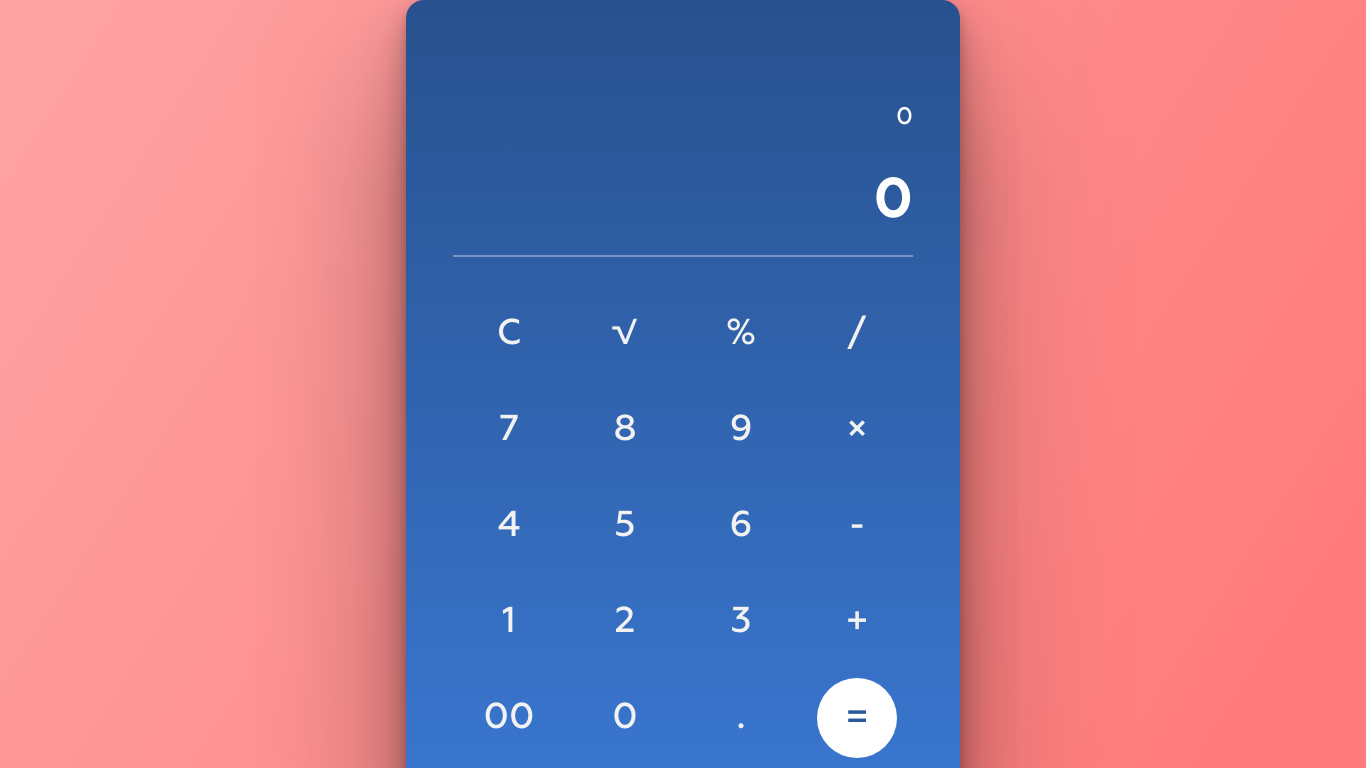
it: Basic Math Operations › should calc sqrt
Click the button "9" at (741, 430), box [701,390,781,470]
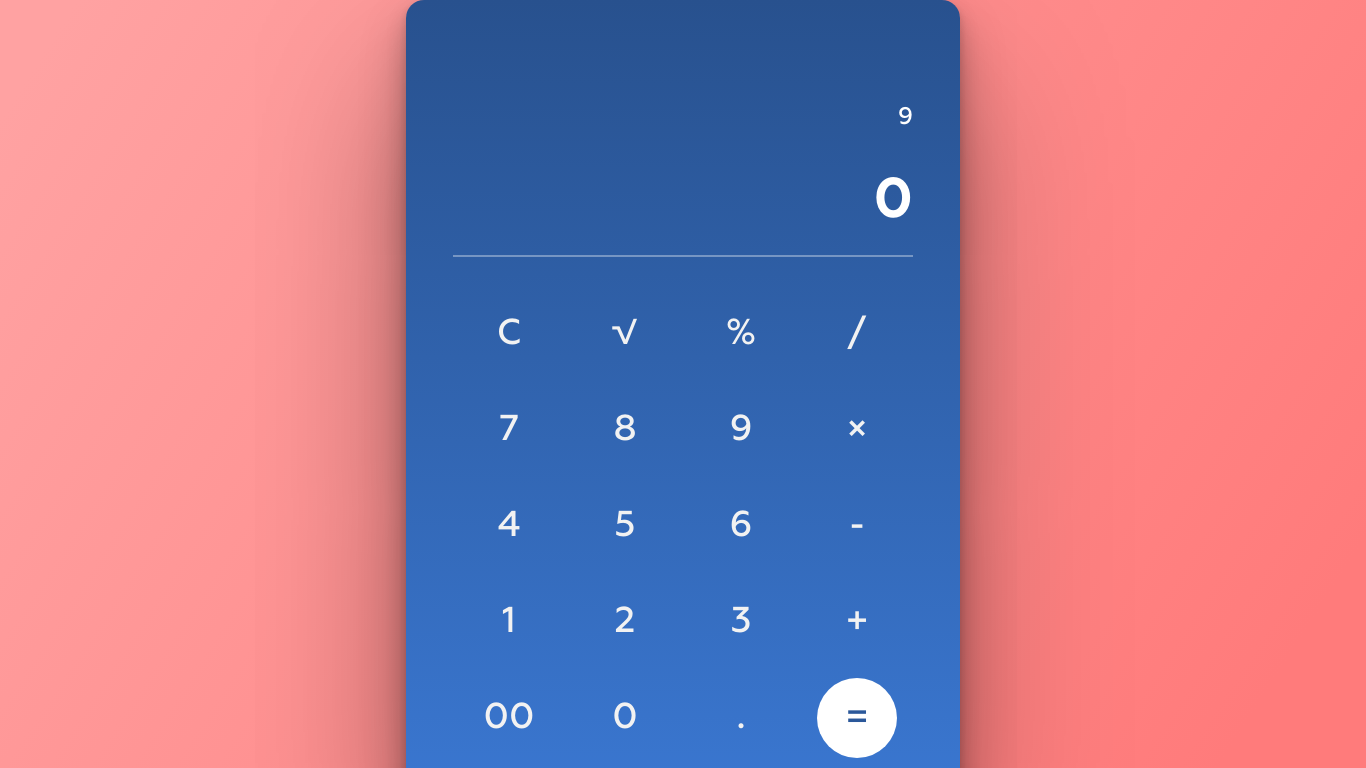
Click the button "√" at (625, 334), box [585,294,665,374]
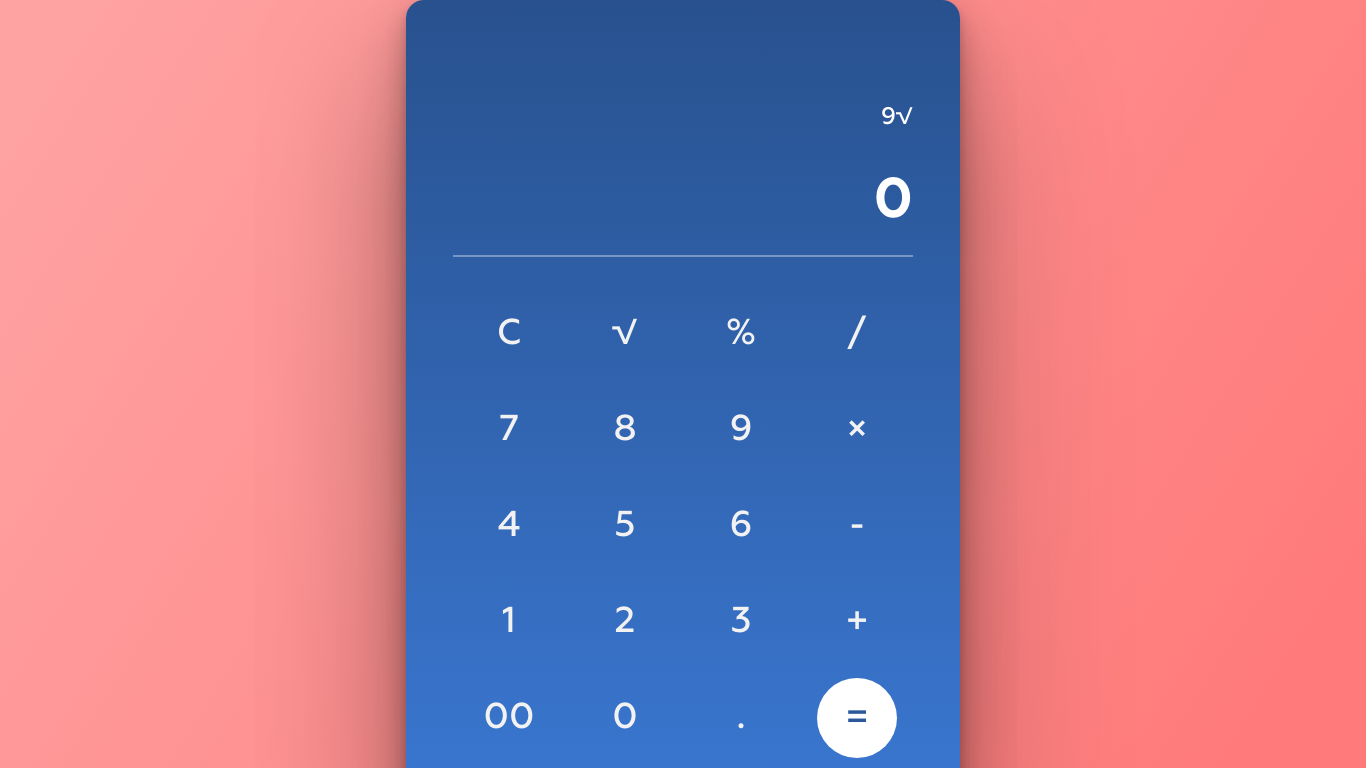
Click the button "=" at (857, 718), box [817,678,897,758]
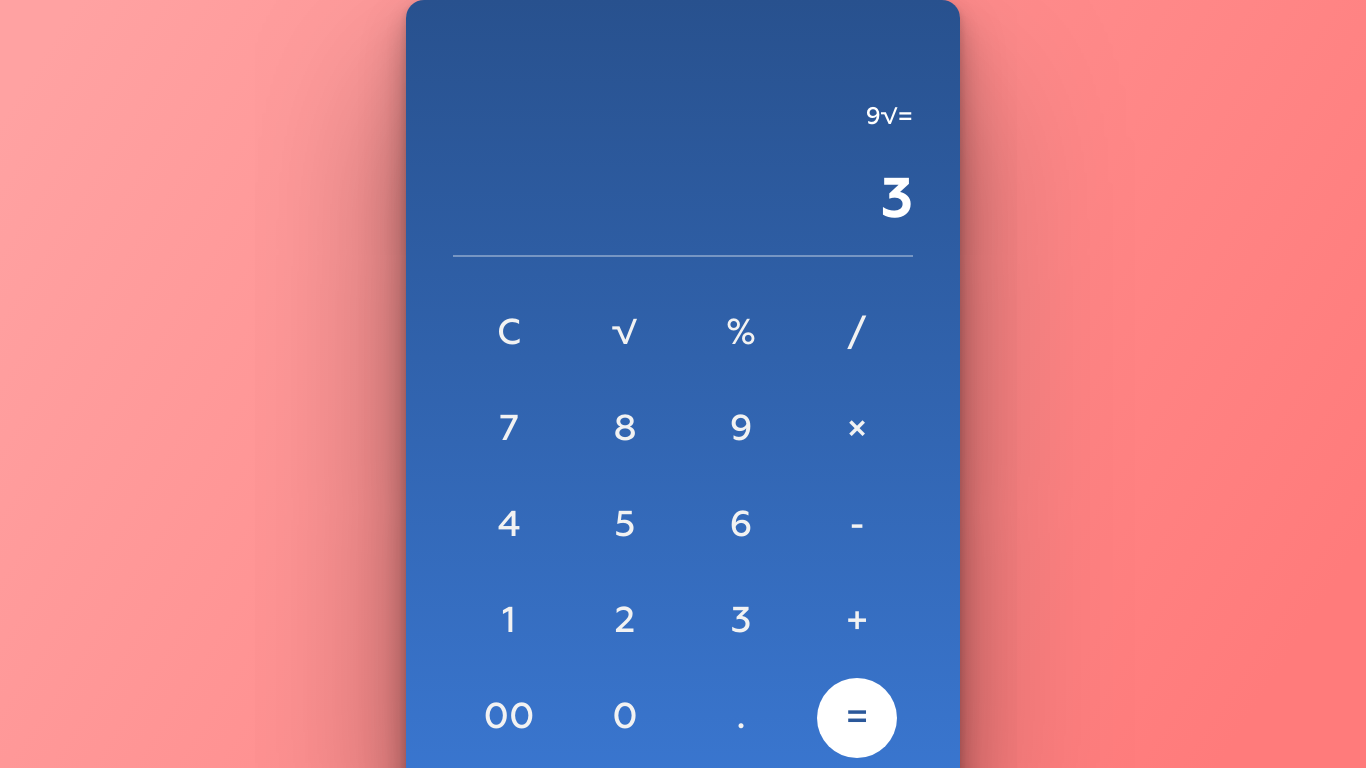
Expected: the text "3" is shown, [881,173,913,229]
